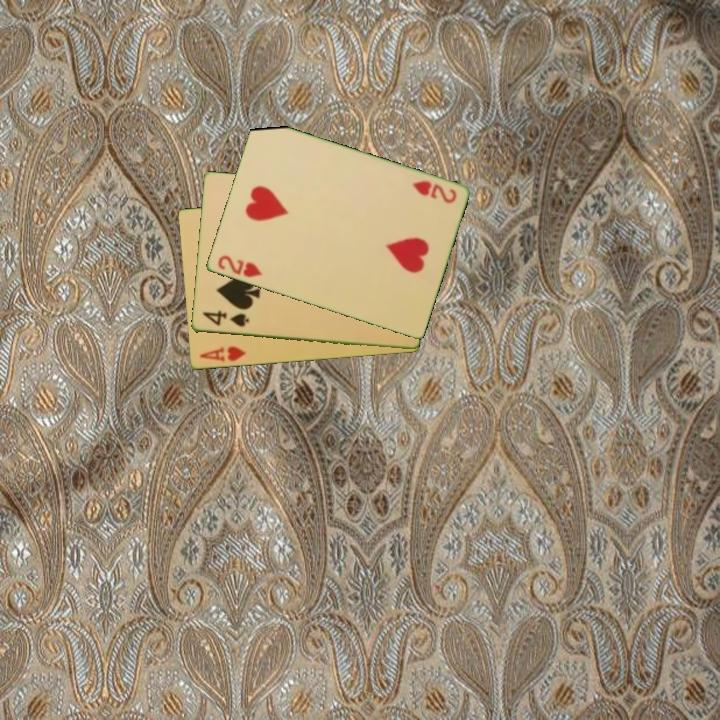2h: (408, 177, 459, 207), (214, 252, 265, 281)
4s: (199, 308, 252, 330)
Ah: (196, 343, 249, 365)
